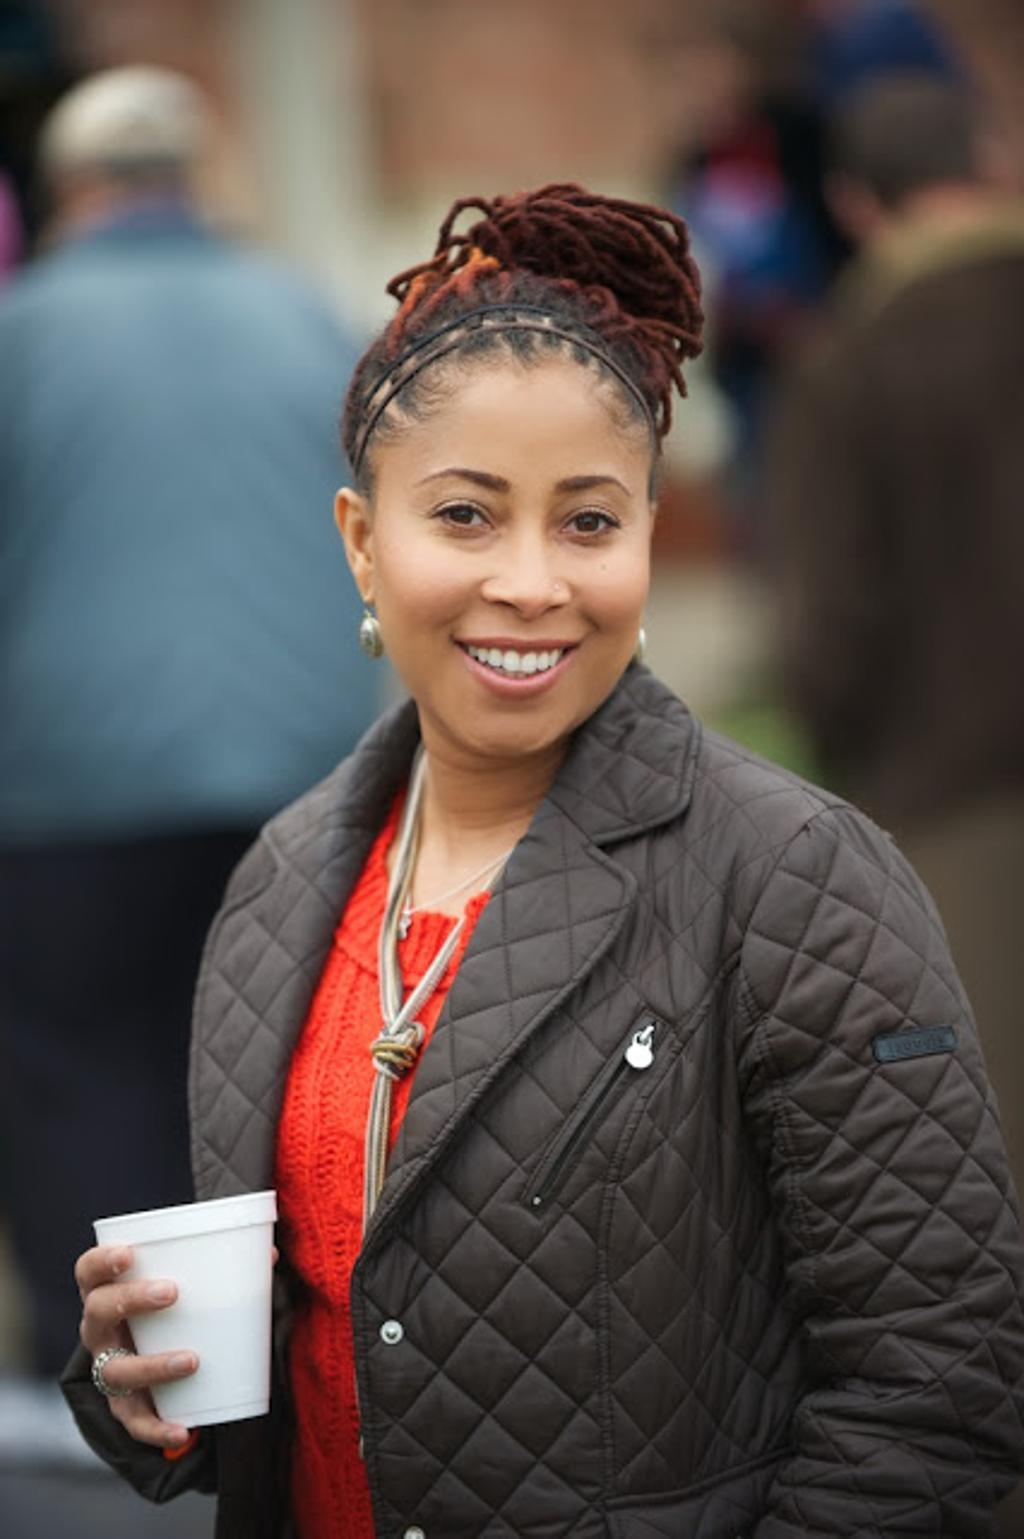face: (384, 351, 654, 741)
